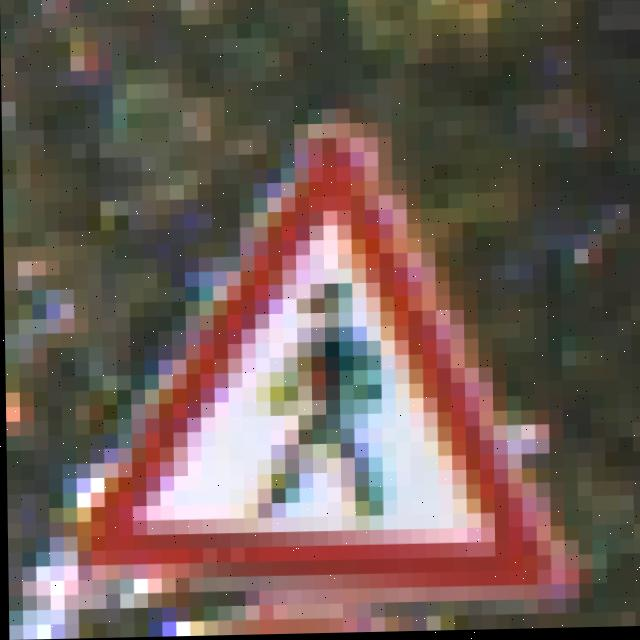crosswalk: (234, 187, 548, 582)
